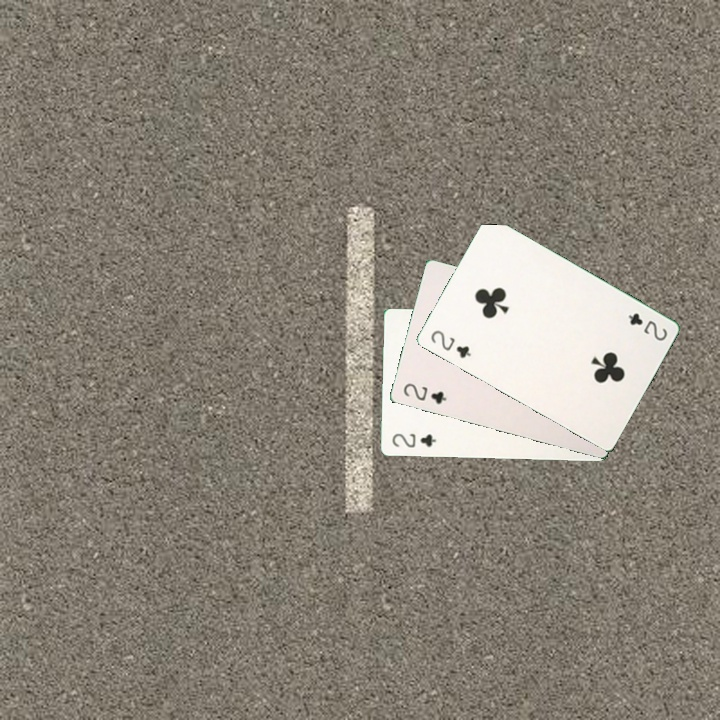2c: (427, 326, 474, 361), (624, 309, 670, 344), (399, 379, 449, 407), (388, 429, 439, 450)
